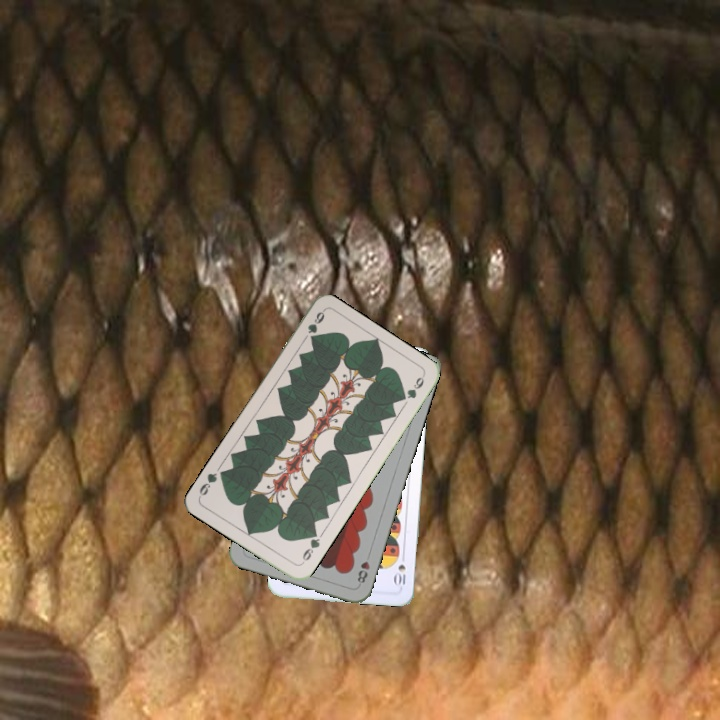G9: (297, 527, 323, 567), (304, 307, 327, 344)
H8: (353, 549, 373, 586)
S10: (391, 550, 408, 590)
